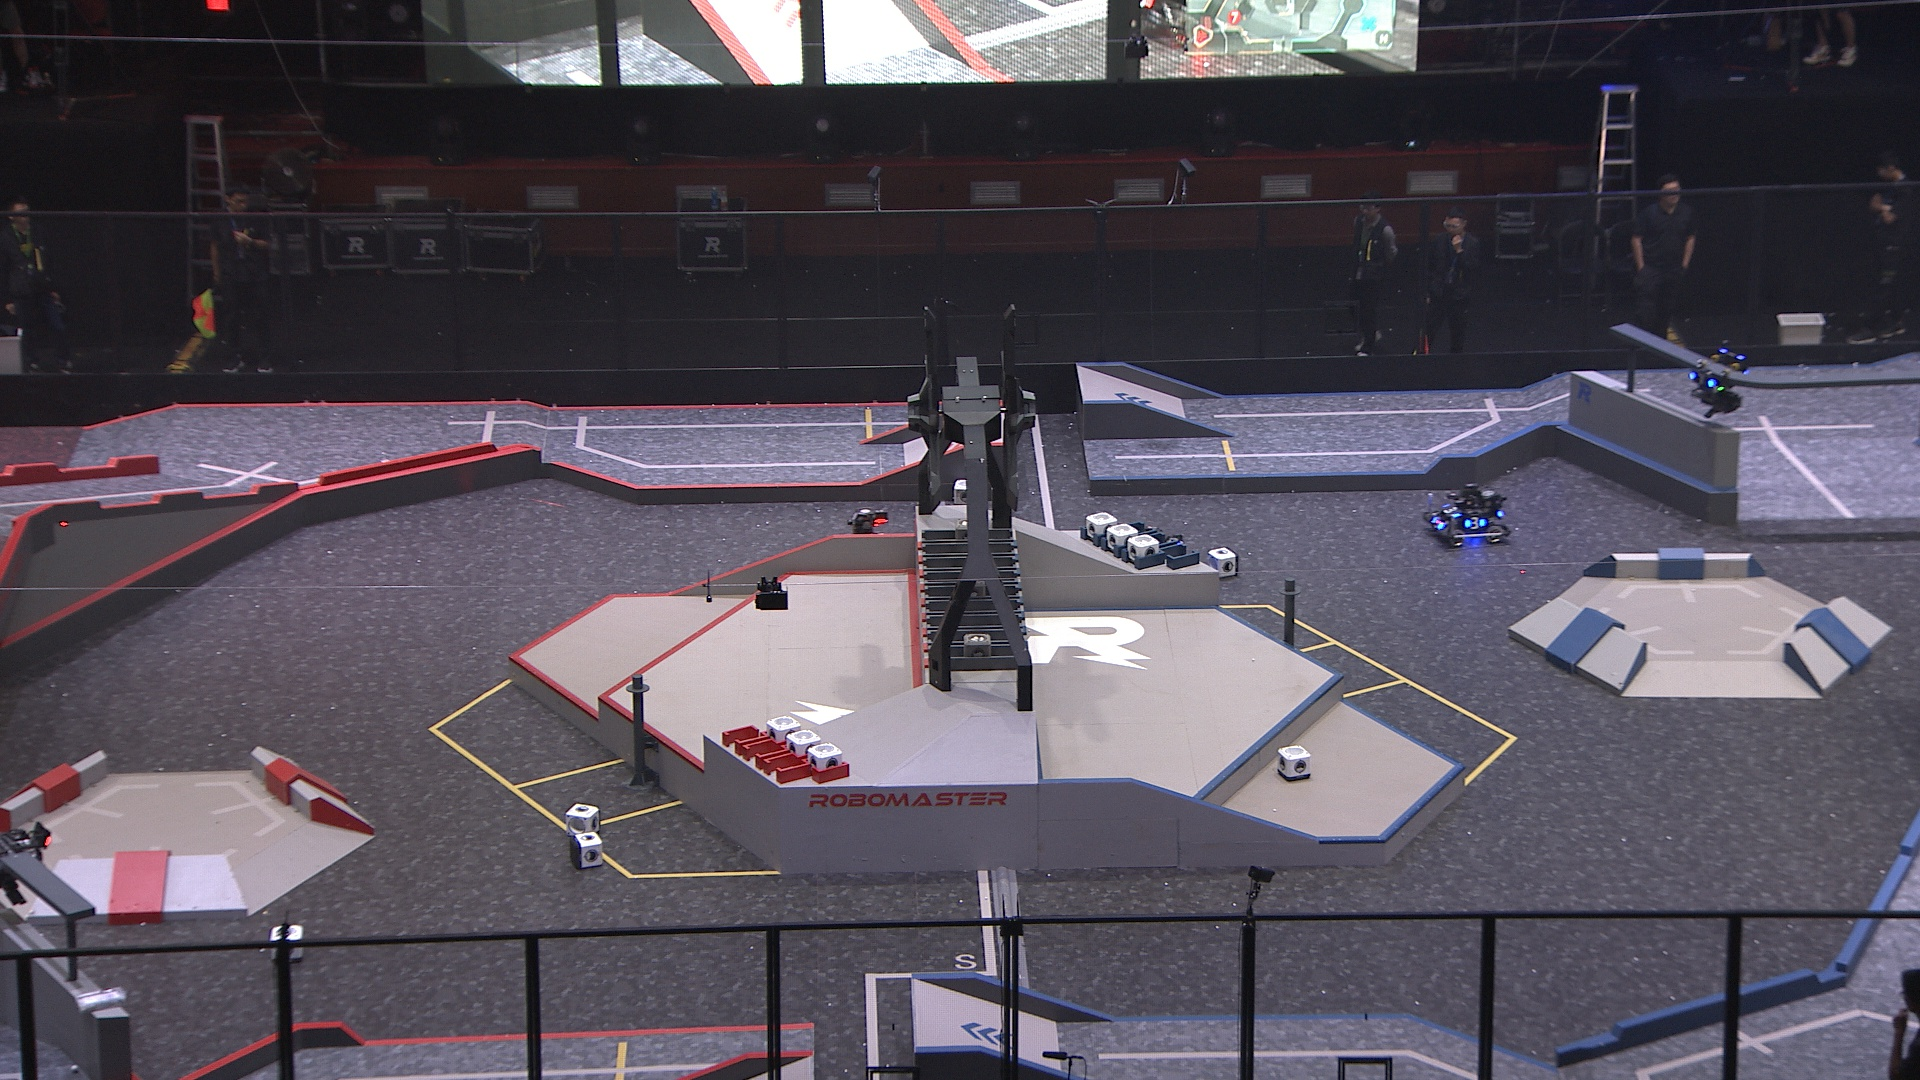armor: (1688, 367, 1717, 392), (1462, 514, 1487, 531), (1439, 502, 1465, 518), (1428, 513, 1448, 533)
car: (1420, 479, 1513, 550), (814, 505, 894, 574)
watcher: (1684, 338, 1751, 419)
